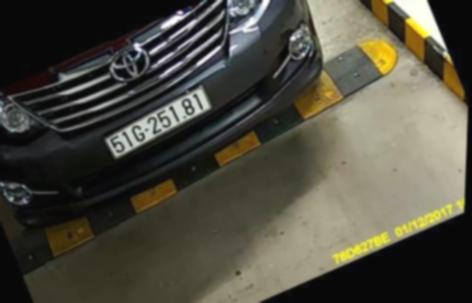License_Plate: (105, 86, 213, 167)
